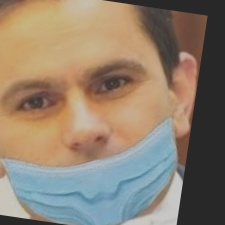mask_weared_incorrect: (1, 1, 183, 223)
